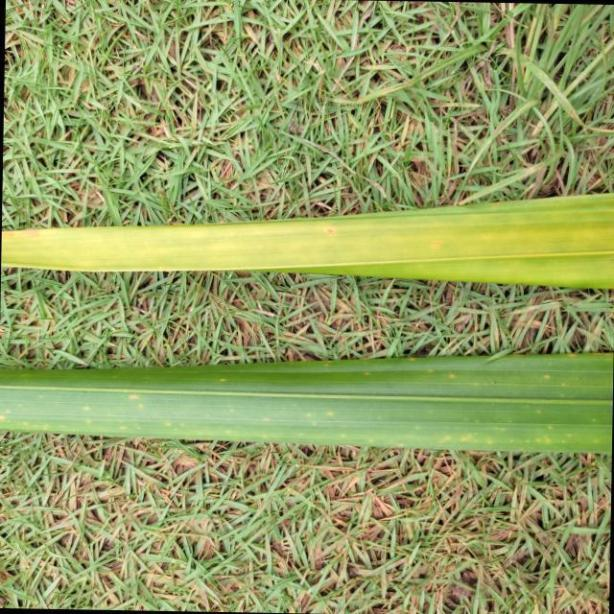nitrogen: (0, 344, 614, 452), (0, 190, 614, 291)
